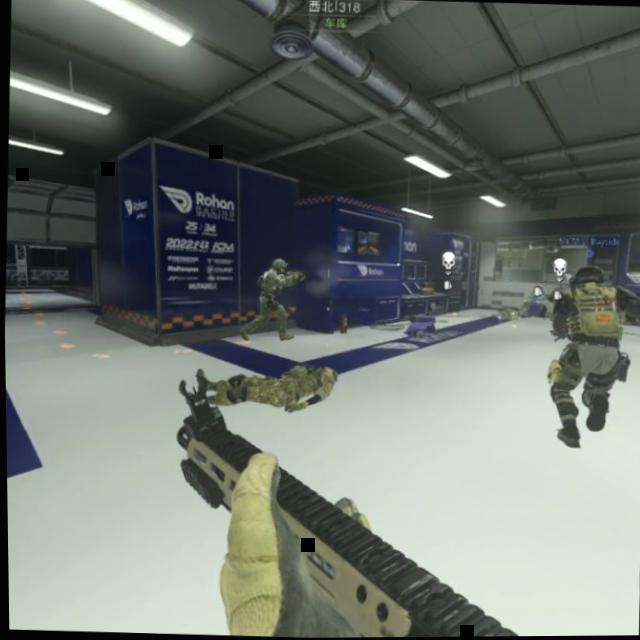MW2_body: (239, 255, 306, 341)
